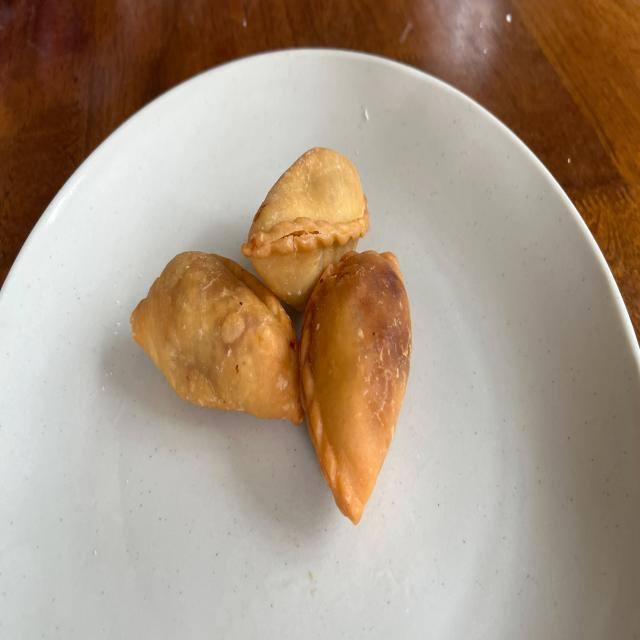karipap: (299, 251, 411, 524), (131, 253, 304, 424), (241, 147, 369, 309)
